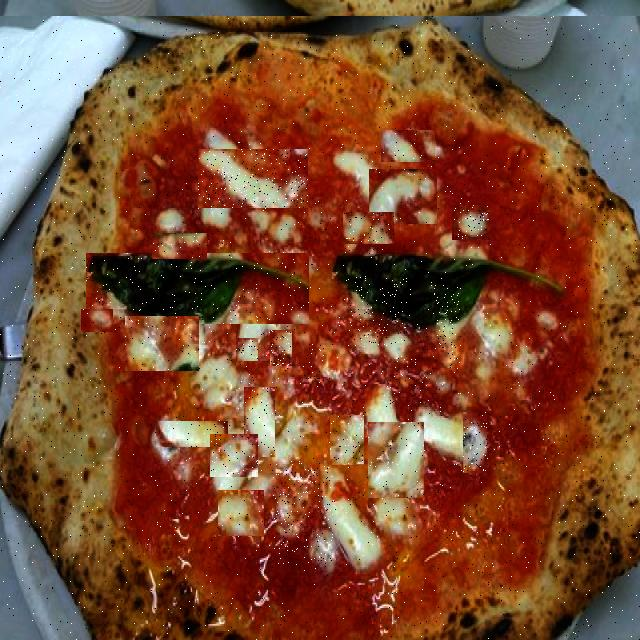Basil: (86, 253, 309, 324)
Cheese: (273, 461, 333, 572), (198, 150, 308, 210), (346, 276, 407, 347), (368, 422, 424, 498), (125, 316, 199, 371), (369, 169, 437, 224), (386, 357, 447, 414), (431, 279, 461, 368), (244, 387, 275, 457), (218, 490, 264, 536), (210, 434, 258, 477), (156, 421, 228, 447), (381, 130, 435, 162), (330, 415, 364, 465), (343, 212, 394, 244), (336, 246, 375, 287), (463, 412, 487, 473), (152, 233, 207, 259), (452, 205, 490, 240), (270, 330, 292, 366), (81, 310, 113, 334), (303, 344, 324, 380), (236, 338, 258, 361)
Pizza: (0, 16, 640, 640)
